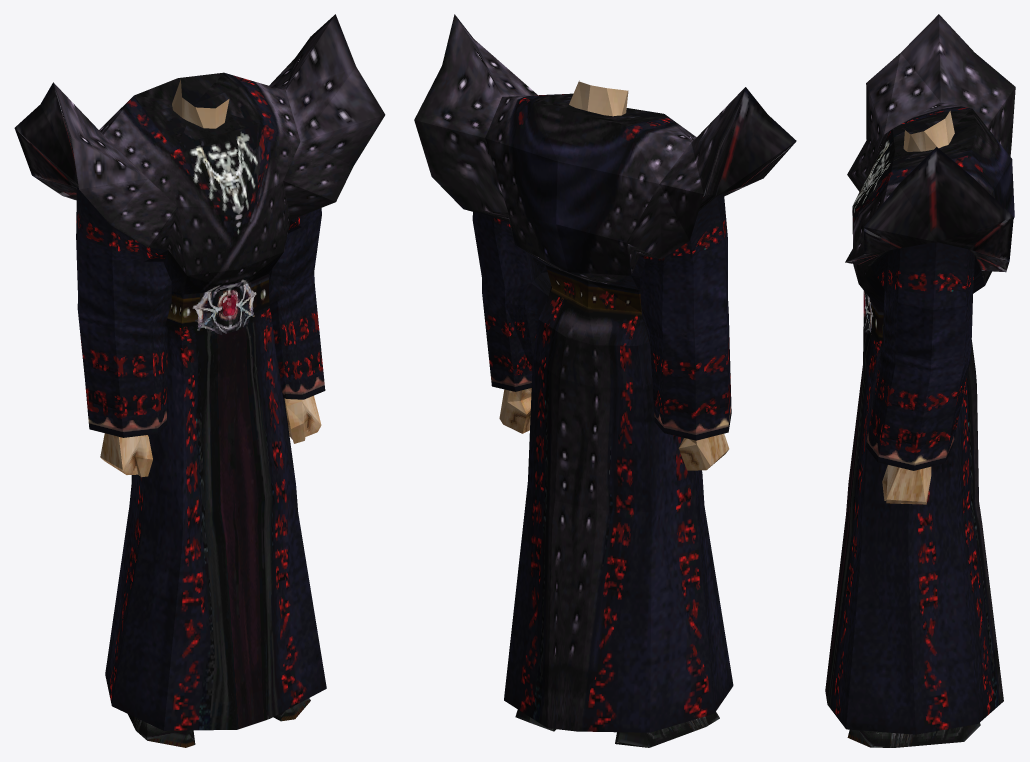
Rendered from DMB_ARMOR_M-DwGp4L2G.glb.
3 views of the same model, side by side, from view 1: azimuth 30°, elevation 25°; view 2: azimuth 150°, elevation 25°; view 3: azimuth 270°, elevation 25° (orthographic). The views are drawn at different scales.
Visible parts, largest first — view 1: zm_DMB; view 2: zm_DMB; view 3: zm_DMB.
Boxes of the visible parts, x1=… form: zm_DMB: x1=14, y1=14, x2=385, y2=747; zm_DMB: x1=414, y1=14, x2=796, y2=747; zm_DMB: x1=825, y1=14, x2=1015, y2=747.
Bounding box in the file's own units: 0.8455 × 1.73 × 0.4702.
2 materials, 2 textured.
